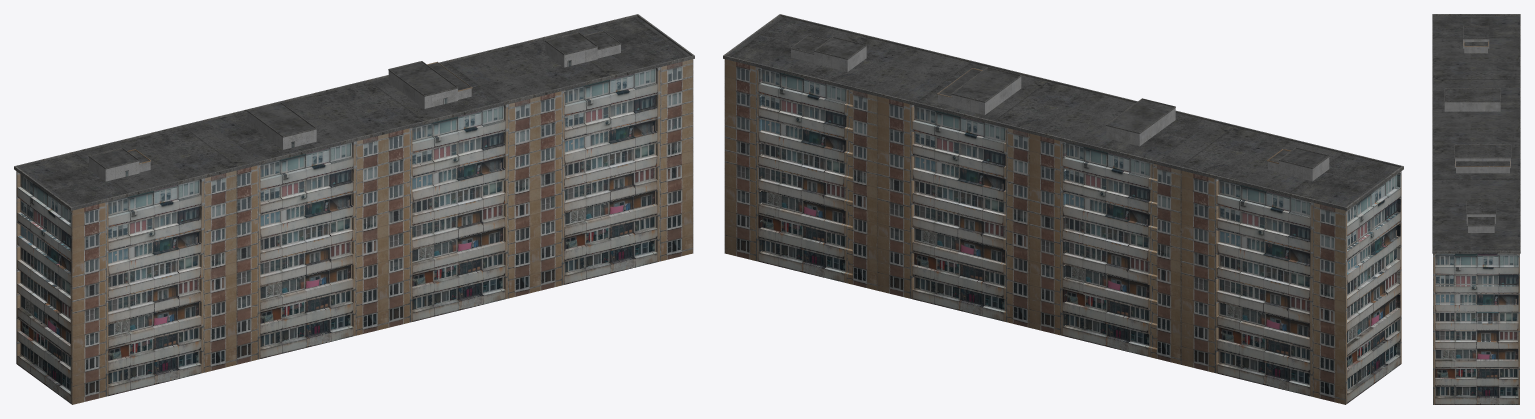
Rendered from SM_Building_01.fbx.
3 renders of one model, left to right at view 1: azimuth 30°, elevation 25°; view 2: azimuth 150°, elevation 25°; view 3: azimuth 270°, elevation 25°, orthographic. The views are drawn at different scales.
Visible parts, largest first — view 1: SM_Building_01; view 2: SM_Building_01; view 3: SM_Building_01.
Boxes of the visible parts, box(x1,y1,x2,y2) form: SM_Building_01: box(14, 14, 694, 404); SM_Building_01: box(723, 14, 1403, 404); SM_Building_01: box(1432, 14, 1520, 404).
Size of the model in its own units: 212 by 68.02 by 33.45.
